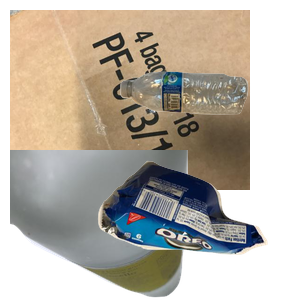cardboard: (10, 10, 250, 190)
glass: (10, 150, 190, 300)
plastic: (118, 69, 300, 176)
trash: (95, 158, 300, 300)
